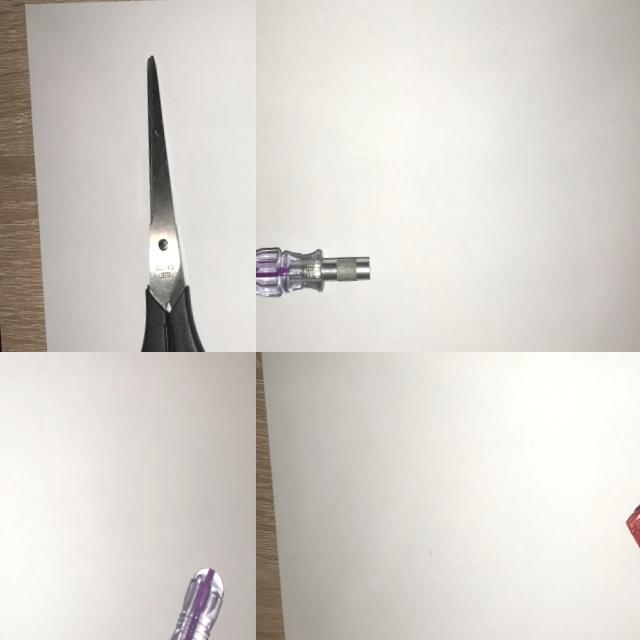car: (614, 446, 640, 586)
scissors: (85, 39, 248, 352)
screwdriver: (112, 560, 241, 640), (256, 234, 377, 312)
